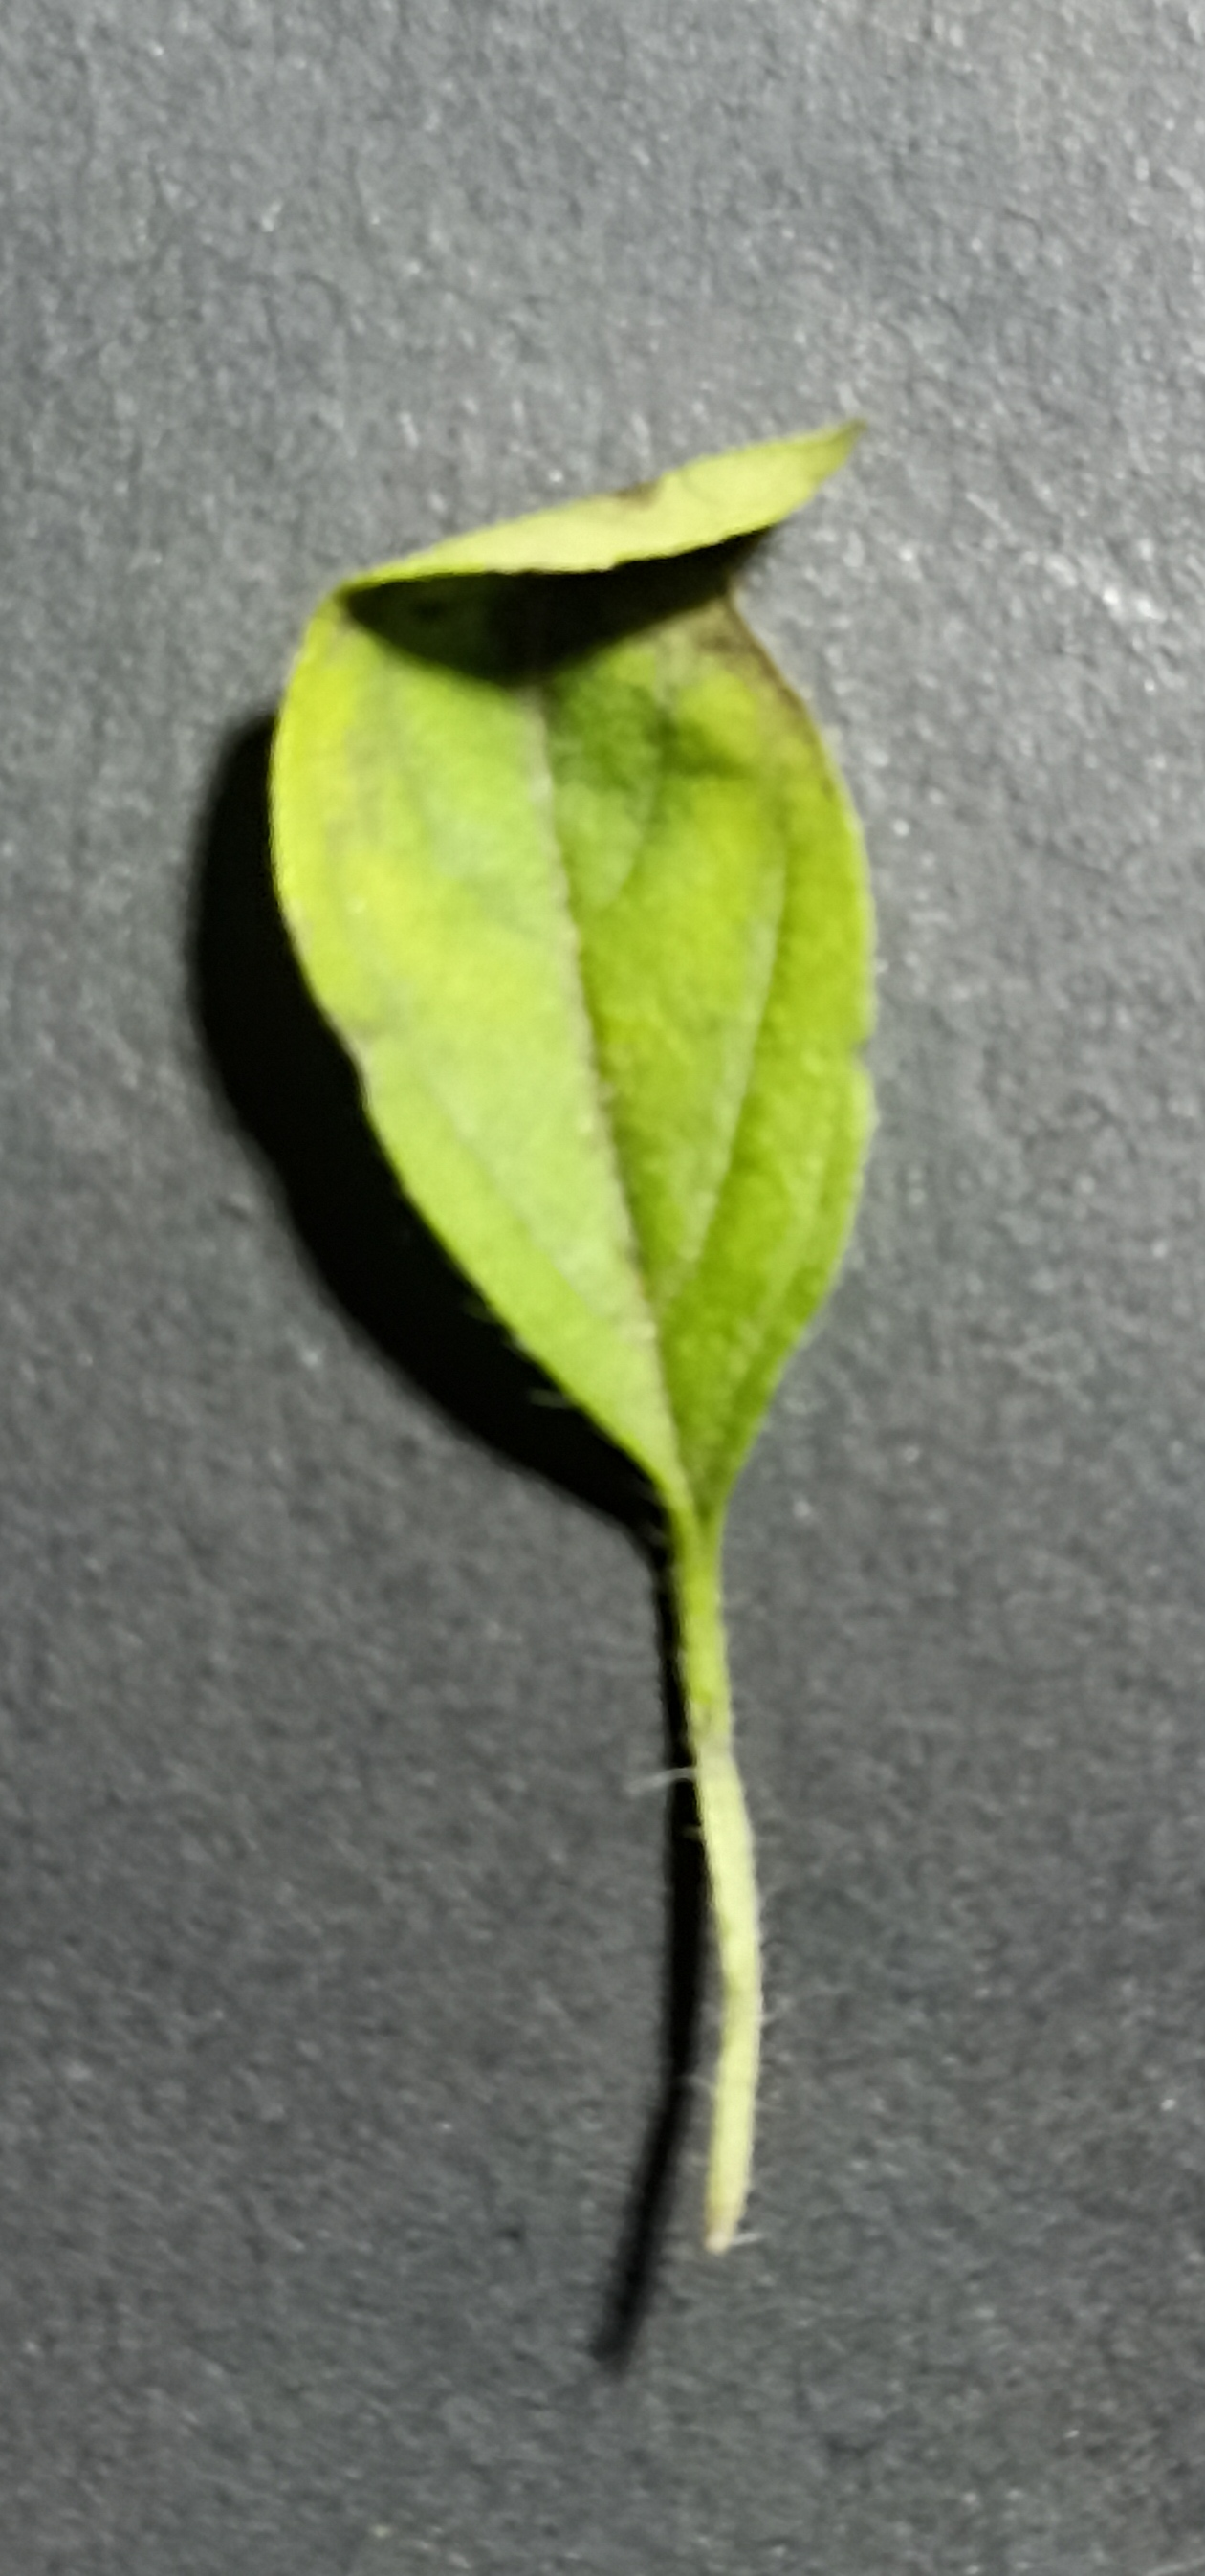Unhealthy: (235, 370, 913, 1506)
